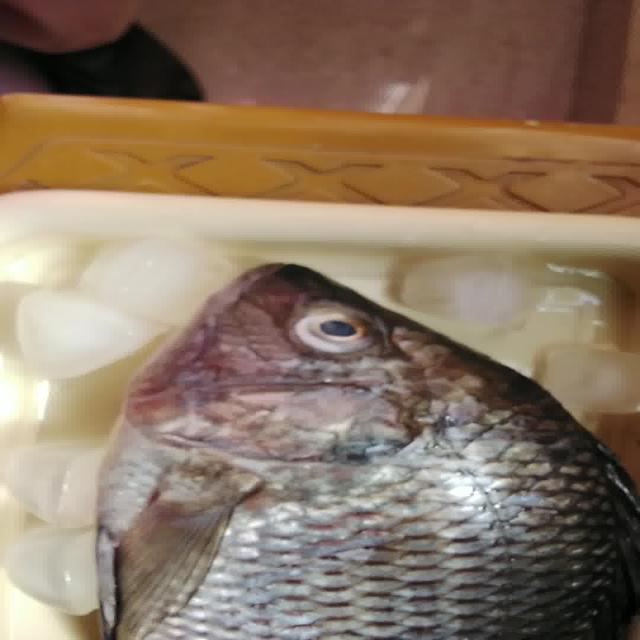Fresh: (104, 390, 640, 640), (255, 292, 403, 373)
